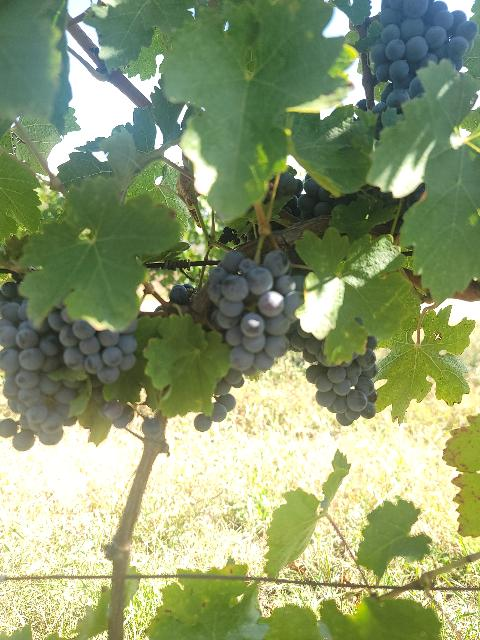grapes: (0, 281, 78, 450), (370, 0, 478, 112), (208, 250, 301, 376), (290, 326, 378, 425), (48, 309, 138, 384)
